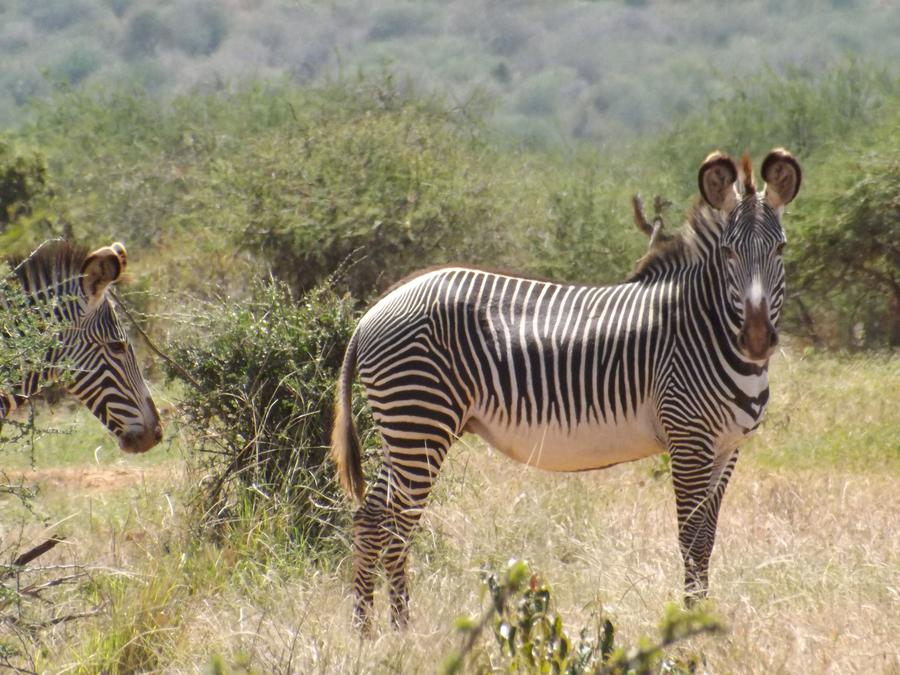zebra_grevys: (320, 242, 729, 453)
